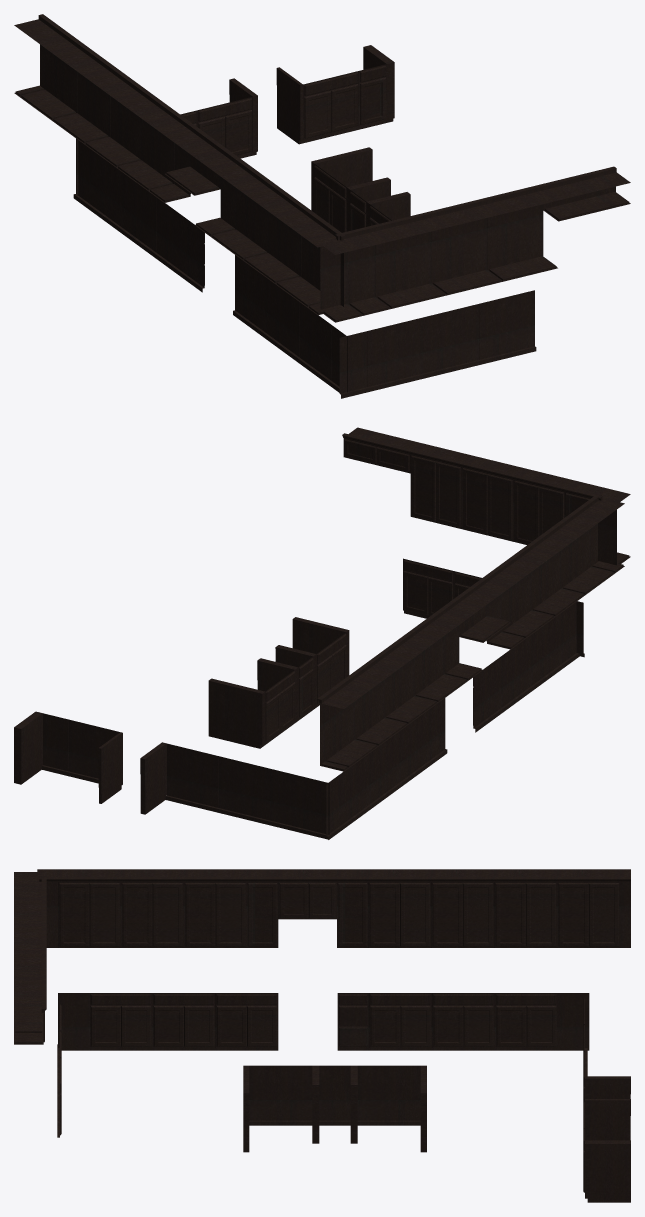
Rendered from cabinets_espresso.glb.
3 views of the same model, one above another, from view 1: azimuth 30°, elevation 25°; view 2: azimuth 150°, elevation 25°; view 3: azimuth 270°, elevation 25° (orthographic). The views are drawn at different scales.
Parts seen in each view (by area): view 1: Kitchen Cabinets Epresso; view 2: Kitchen Cabinets Epresso; view 3: Kitchen Cabinets Epresso.
Boxes of the visible parts, bbox=[...] form: Kitchen Cabinets Epresso: bbox=[14, 14, 630, 398]; Kitchen Cabinets Epresso: bbox=[14, 427, 630, 839]; Kitchen Cabinets Epresso: bbox=[14, 869, 630, 1202].
Bounding box in the file's own units: 6.4 × 2.93 × 9.8.
Materials: 1 (1 with a texture image).
